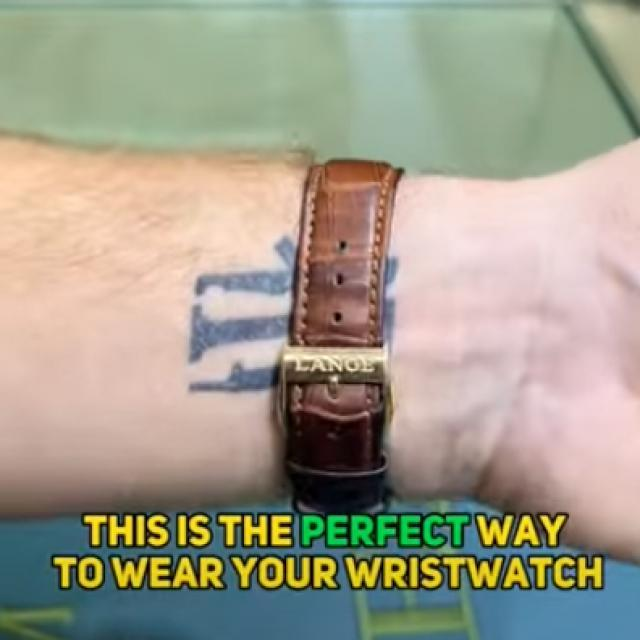Watch: (282, 139, 399, 516)
